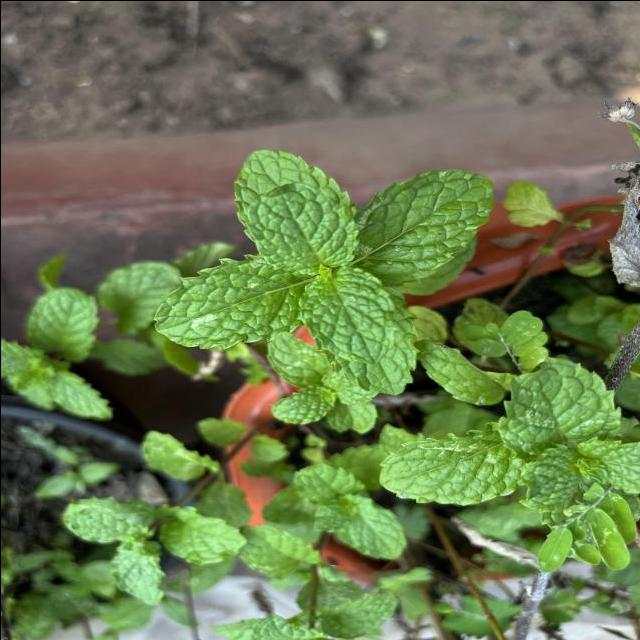Mentha spicata: (348, 167, 496, 287), (230, 147, 358, 274), (151, 252, 303, 350), (376, 419, 526, 505), (298, 264, 400, 366)
